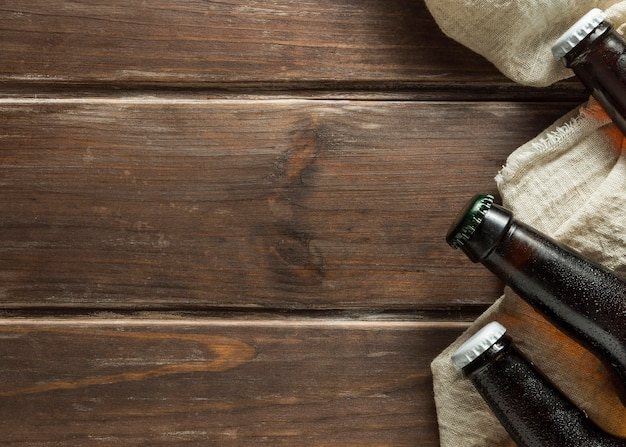alcohol: (432, 193, 626, 410), (448, 319, 626, 447), (551, 7, 626, 137)
